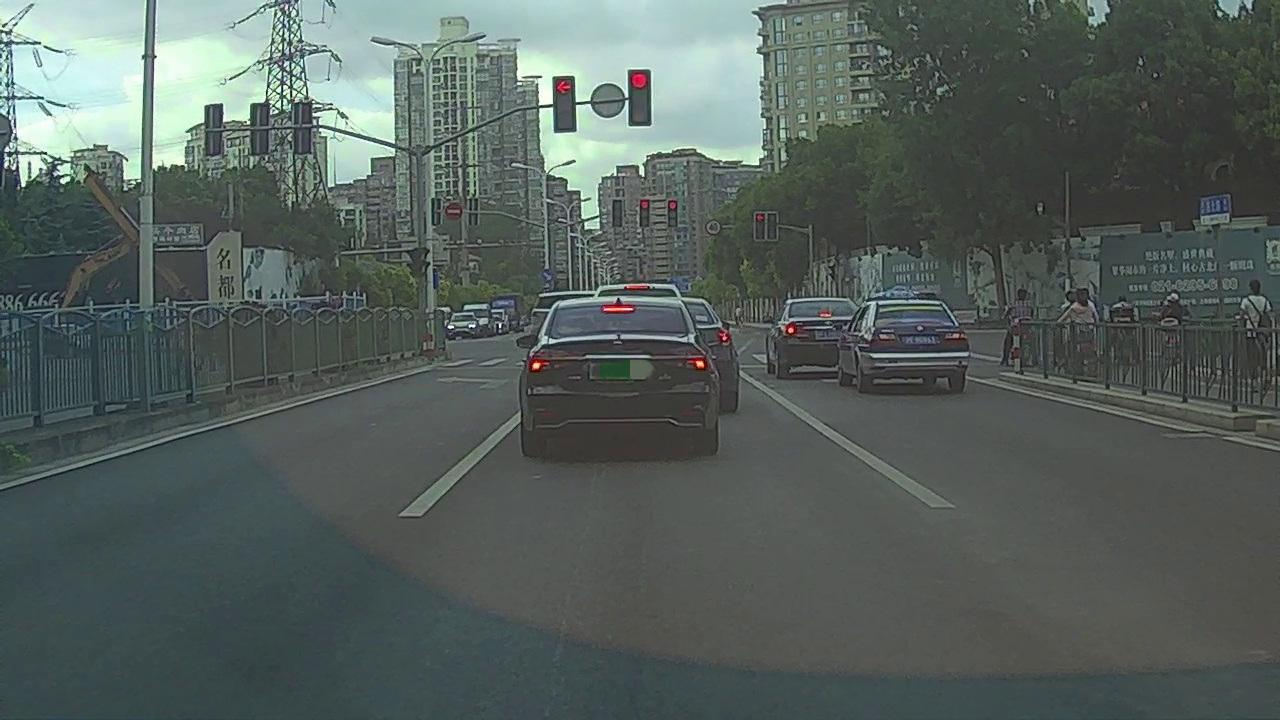traffic_light: (627, 70, 651, 126), (552, 76, 575, 132), (612, 199, 623, 228), (640, 199, 650, 227), (755, 213, 765, 240), (767, 213, 777, 240), (668, 200, 677, 227)
